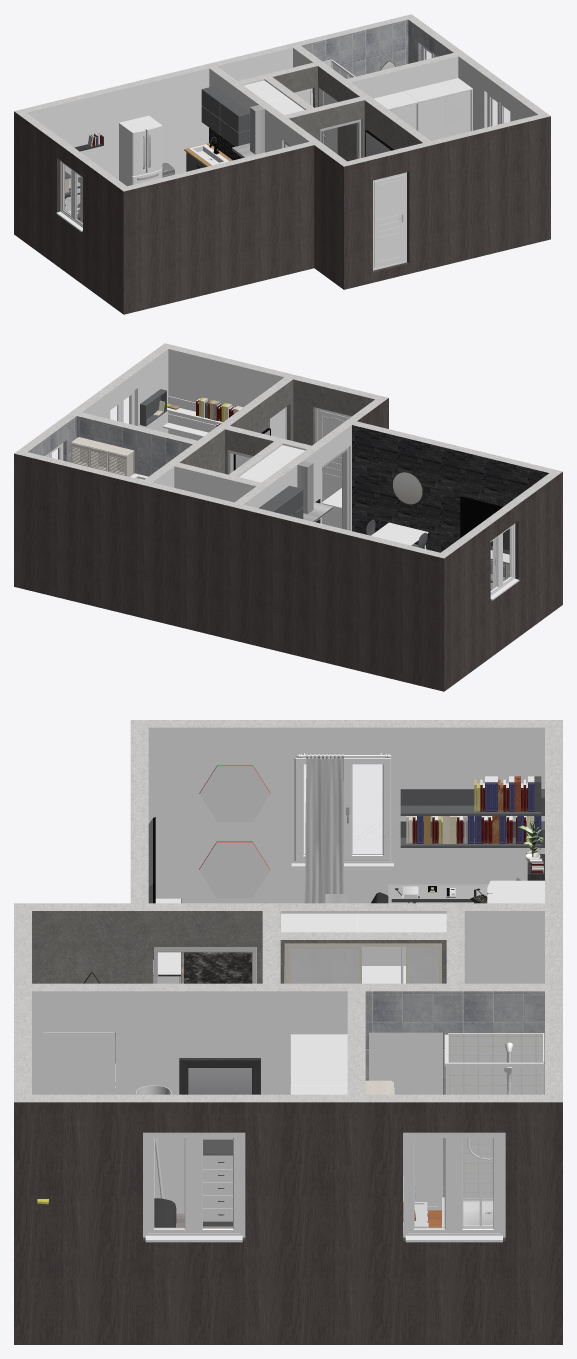
The model's file is ContactMe.glb.
3 views of the same model, one above another, from view 1: azimuth 30°, elevation 25°; view 2: azimuth 150°, elevation 25°; view 3: azimuth 270°, elevation 25° (orthographic). The views are drawn at different scales.
Visible parts, largest first — view 1: Object_13, Object_12, Object_28, Object_75, Object_8, Object_11, Object_48, Object_81, Object_51, Object_50, Object_58, Object_89 (+3 smaller); view 2: Object_13, Object_7, Object_28, Object_12, Object_75, Object_11, Object_8, Object_51, Object_91, Object_81, Object_38, Object_50 (+4 smaller); view 3: Object_13, Object_12, Object_28, Object_11, Object_50, Object_75, Object_79, Object_8, Object_24, Object_48, Object_47, Object_97 (+10 smaller).
Part boxes in pixels (left/top/right/bottom): Object_13: left=14, top=50, right=550, bottom=314; Object_12: left=27, top=47, right=537, bottom=210; Object_28: left=14, top=14, right=550, bottom=191; Object_75: left=273, top=66, right=422, bottom=161; Object_8: left=301, top=19, right=453, bottom=78; Object_11: left=56, top=45, right=510, bottom=231; Object_48: left=77, top=78, right=472, bottom=210; Object_81: left=373, top=172, right=406, bottom=270; Object_51: left=65, top=86, right=249, bottom=218; Object_50: left=64, top=50, right=509, bottom=223; Object_58: left=232, top=105, right=264, bottom=157; Object_89: left=244, top=80, right=304, bottom=115; Object_13: left=14, top=396, right=562, bottom=691; Object_7: left=352, top=425, right=548, bottom=554; Object_28: left=14, top=343, right=562, bottom=558; Object_12: left=82, top=349, right=351, bottom=530; Object_75: left=180, top=379, right=374, bottom=528; Object_11: left=45, top=390, right=519, bottom=600; Object_8: left=28, top=416, right=192, bottom=476; Object_51: left=140, top=389, right=427, bottom=548; Object_91: left=71, top=437, right=134, bottom=476; Object_81: left=315, top=407, right=351, bottom=501; Object_38: left=233, top=428, right=509, bottom=582; Object_50: left=52, top=396, right=510, bottom=590; Object_13: left=14, top=1102, right=562, bottom=1344; Object_12: left=32, top=727, right=544, bottom=1213; Object_28: left=14, top=720, right=562, bottom=1102; Object_11: left=115, top=753, right=544, bottom=1242; Object_50: left=154, top=764, right=541, bottom=1228; Object_75: left=32, top=911, right=446, bottom=1094; Object_79: left=41, top=1032, right=442, bottom=1210; Object_8: left=365, top=991, right=544, bottom=1236; Object_24: left=448, top=1033, right=544, bottom=1197; Object_48: left=203, top=1034, right=493, bottom=1232; Object_47: left=135, top=766, right=455, bottom=1094; Object_97: left=304, top=753, right=344, bottom=903.
Size of the model in its own units: 10.41 by 2.95 by 6.05.
100 materials, 75 textured.
